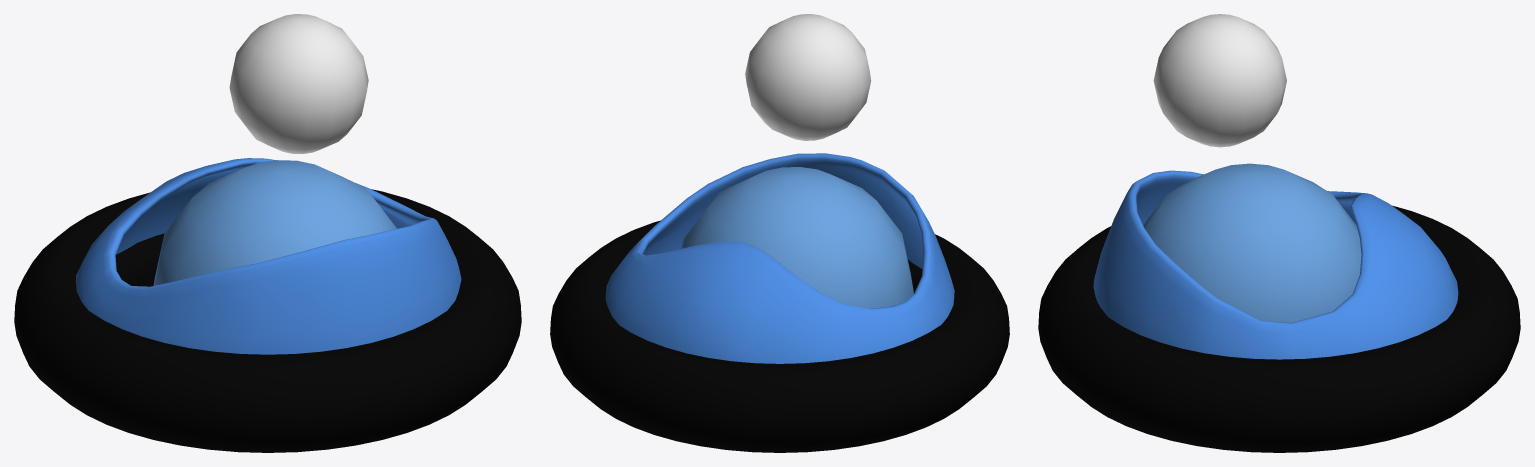
The model's file is Character.fbx.
3 views of the same model, side by side, from view 1: azimuth 30°, elevation 25°; view 2: azimuth 150°, elevation 25°; view 3: azimuth 270°, elevation 25° (orthographic). The views are drawn at different scales.
Parts seen in each view (by area): view 1: Torus, Sphere; view 2: Torus, Sphere; view 3: Torus, Sphere.
Part boxes in pixels (x1,y1,x2,y2): Torus: (14,158,521,452); Sphere: (229,14,368,153); Torus: (550,153,1009,452); Sphere: (745,14,871,140); Torus: (1038,163,1520,452); Sphere: (1153,14,1286,147).
Bounding box in the file's own units: 249 × 198 × 249.
